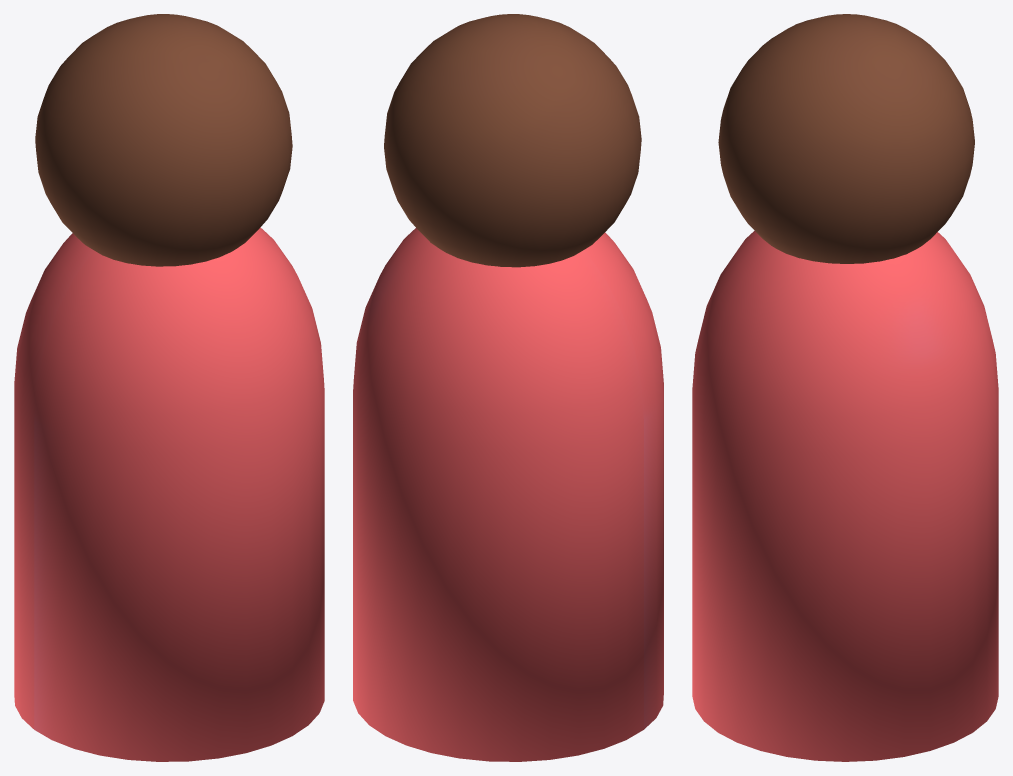
Rendered from Doll3.fbx.
3 renders of one model, left to right at view 1: azimuth 30°, elevation 25°; view 2: azimuth 150°, elevation 25°; view 3: azimuth 270°, elevation 25°, orthographic.
Visible parts, largest first — view 1: Doll3; view 2: Doll3; view 3: Doll3.
Part boxes in pixels (bbox=[...]): Doll3: bbox=[14, 14, 324, 761]; Doll3: bbox=[353, 14, 663, 761]; Doll3: bbox=[692, 14, 998, 761].
Size of the model in its own units: 150 by 355 by 148.
1 material, 1 textured.
